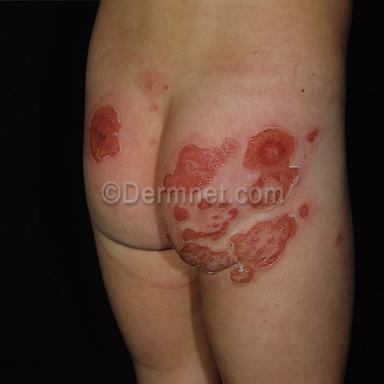Impetigo: (228, 213, 297, 285), (243, 126, 302, 189), (163, 139, 238, 187), (88, 104, 122, 163), (183, 207, 239, 242), (179, 243, 232, 273), (173, 205, 189, 222), (307, 128, 319, 143), (299, 204, 310, 218), (197, 203, 212, 211), (219, 204, 229, 212), (213, 215, 221, 219)
